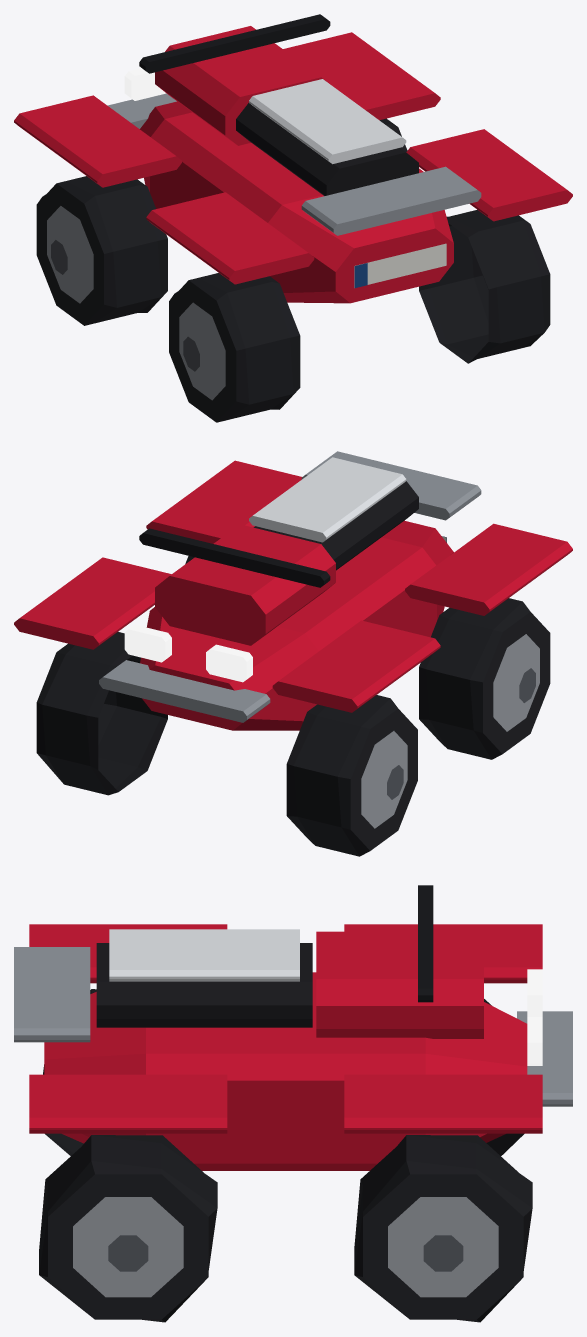
The model's file is atv_lo.glb.
3 renders of one model, top to bottom at view 1: azimuth 30°, elevation 25°; view 2: azimuth 150°, elevation 25°; view 3: azimuth 270°, elevation 25°, orthographic. The views are drawn at different scales.
Visible parts, largest first — view 1: body.002, wheel_RL.002, wheel_FL.002, wheel_RR.002; view 2: body.002, wheel_FL.002, wheel_RL.002, wheel_FR.002; view 3: body.002, wheel_RR.002, wheel_FR.002.
Part boxes in pixels (box(x1,y1,x2,y2)): body.002: box(14, 14, 572, 303); wheel_RL.002: box(169, 273, 300, 422); wheel_FL.002: box(36, 176, 167, 325); wheel_RR.002: box(419, 209, 550, 363); body.002: box(14, 451, 572, 730); wheel_FL.002: box(286, 695, 417, 856); wheel_RL.002: box(419, 598, 550, 759); wheel_FR.002: box(36, 632, 167, 795); body.002: box(14, 885, 572, 1170); wheel_RR.002: box(39, 1135, 217, 1322); wheel_FR.002: box(354, 1135, 532, 1322).
Size of the model in its own units: 1.86 by 1.3 by 2.2.
